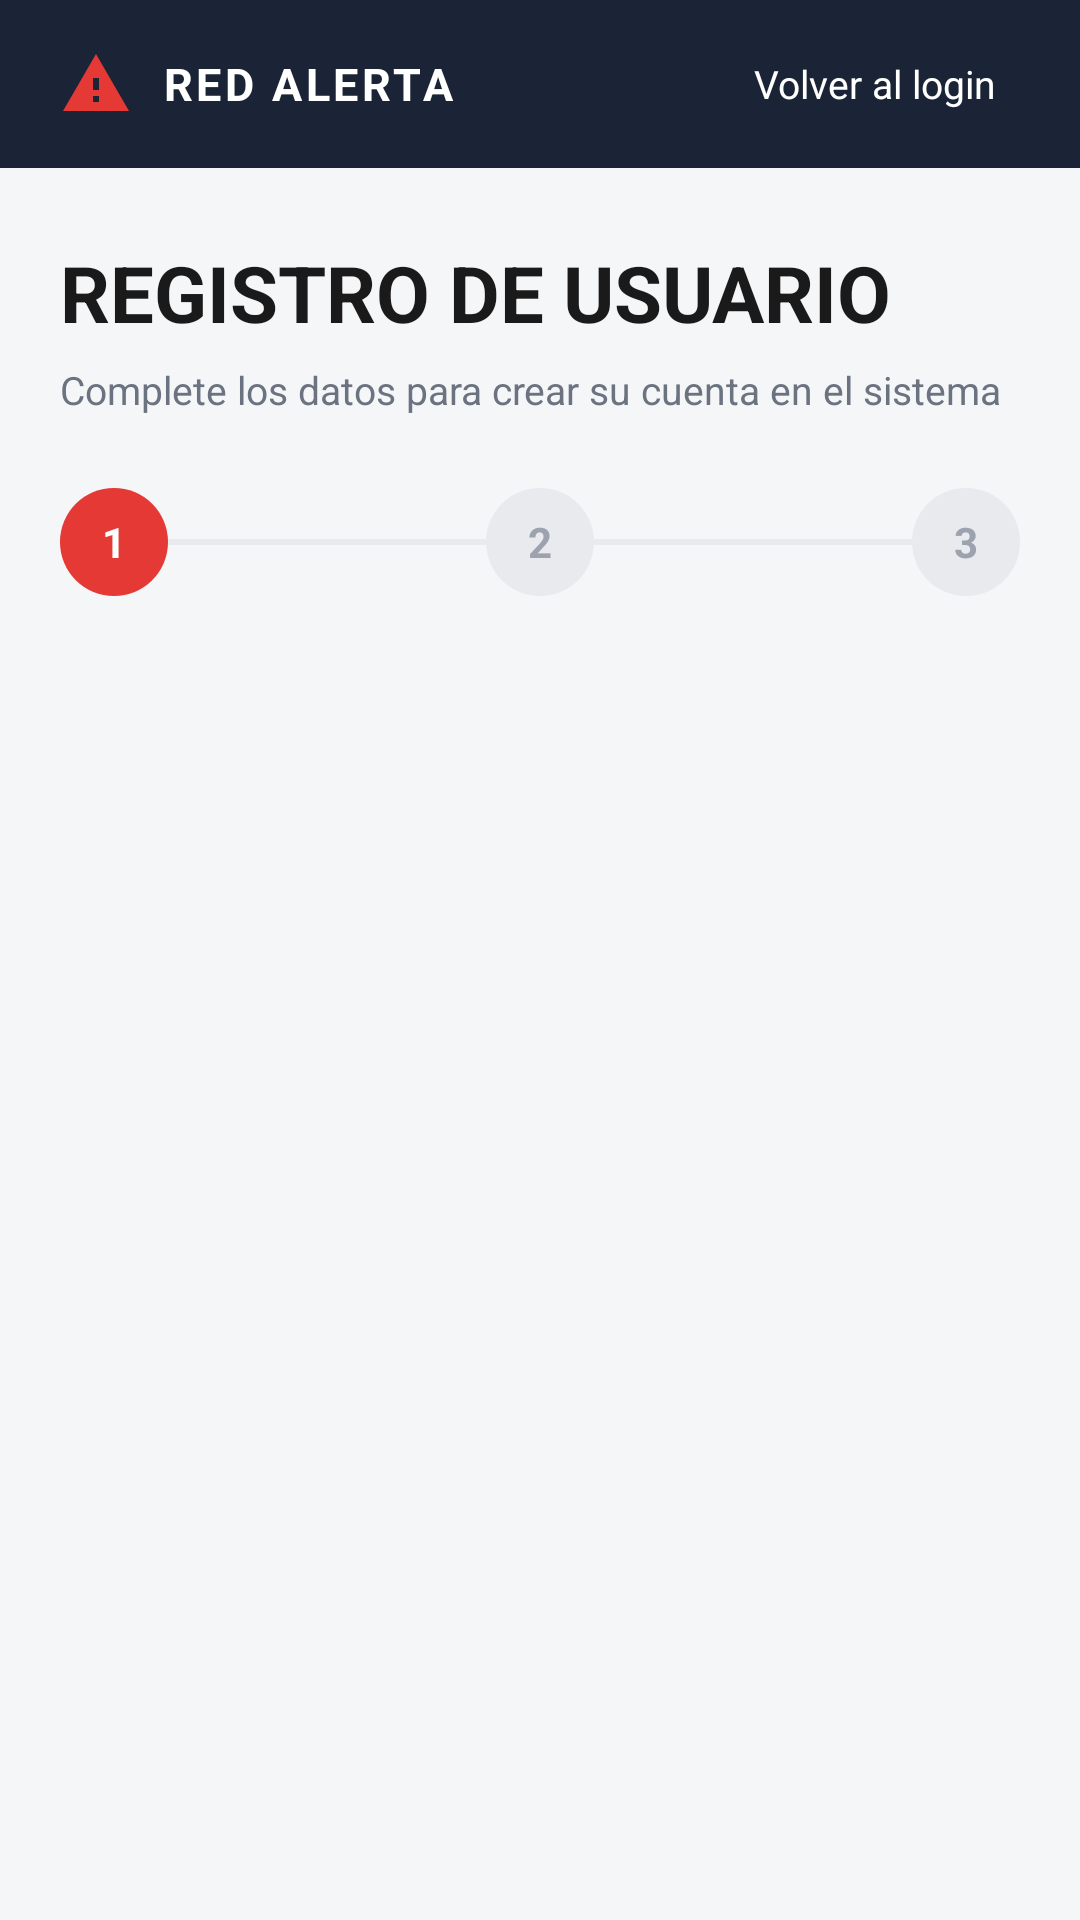

Icon click points for this 1080x1920 phone screenshot, format (x,y):
alert triangle: (96,82)
